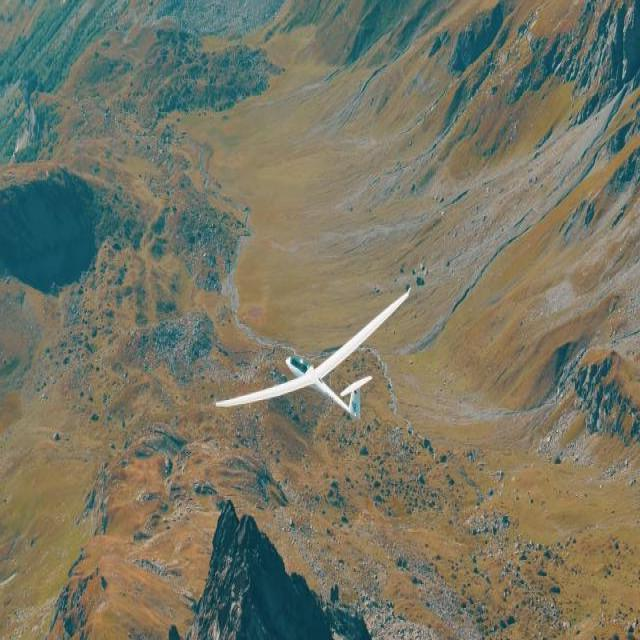iha: (195, 283, 424, 424)
